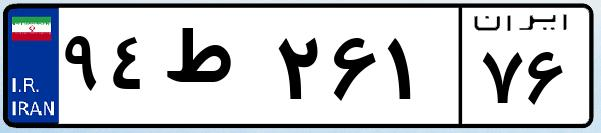1: (385, 28, 445, 110)
2: (270, 28, 330, 110)
4: (110, 28, 158, 98)
6: (330, 28, 385, 110), (525, 38, 570, 115)
7: (475, 38, 525, 113)
9: (57, 26, 110, 100)
ط: (158, 20, 270, 120)
